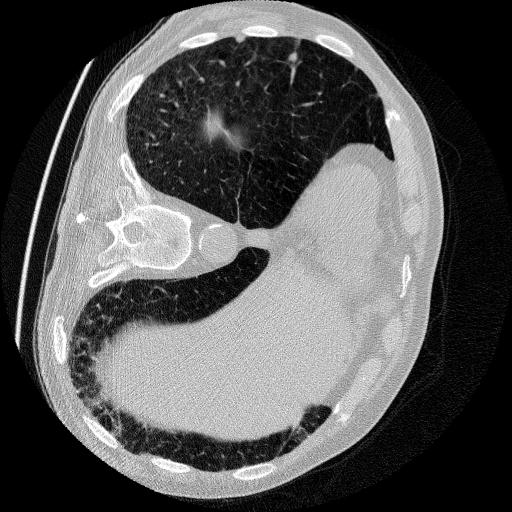nodule: (233, 34, 248, 49)
